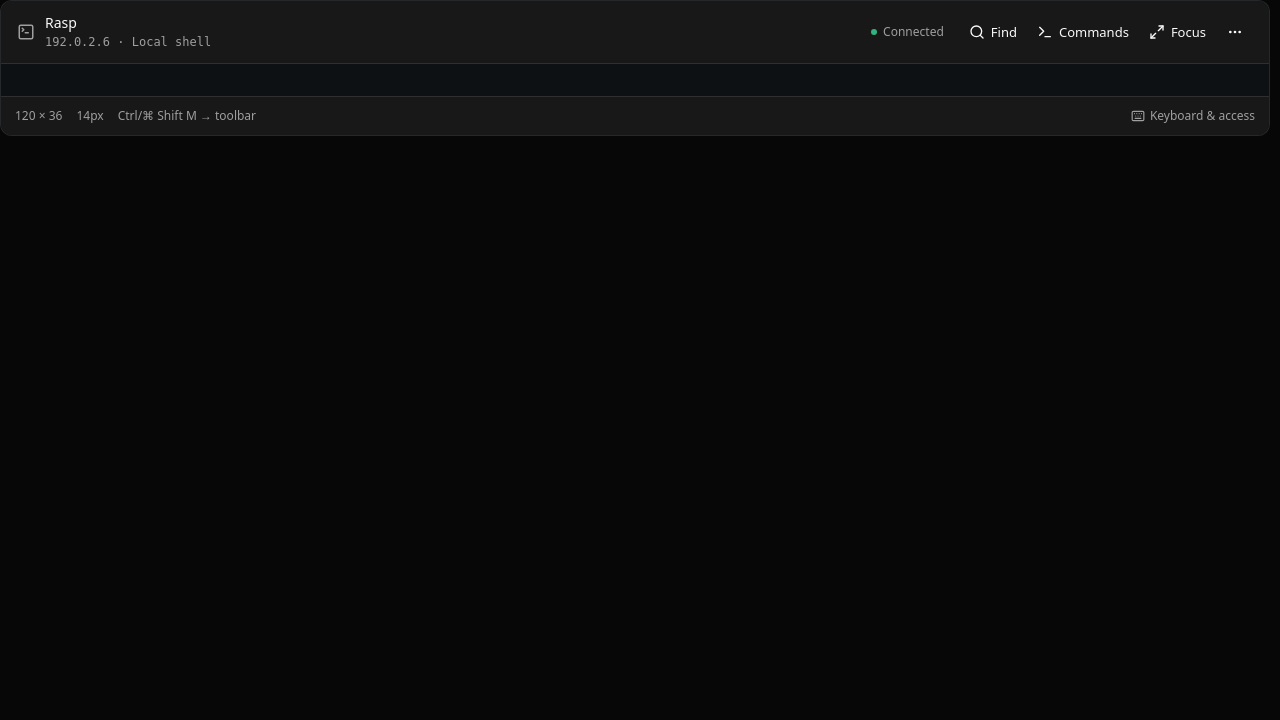
terminal interaction safeguards › keeps the shell open until the user confirms End session
Click the button named "More terminal options".
click(1235, 32)  # box left=1217, top=14, right=1253, bottom=50
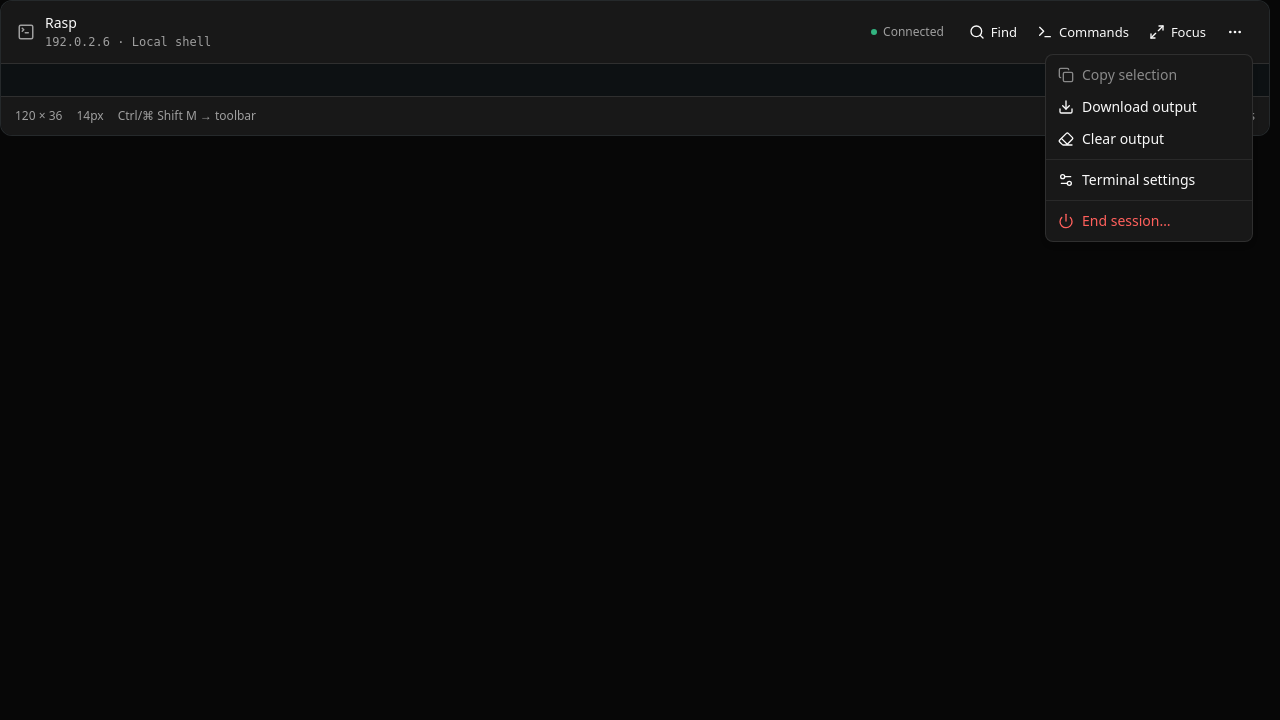
Click the menu item "End session…".
click(1114, 220)  # box left=1058, top=211, right=1170, bottom=230
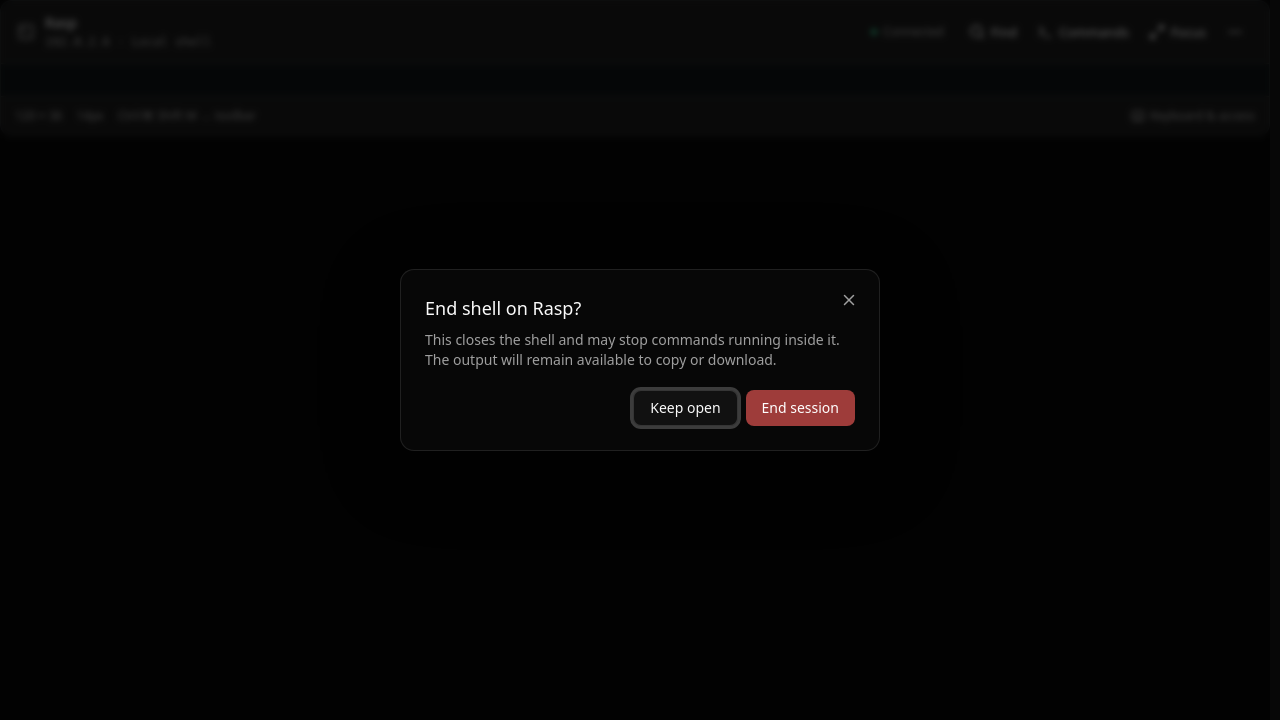
Click the button "Keep open".
click(685, 408)  # box left=633, top=390, right=738, bottom=426
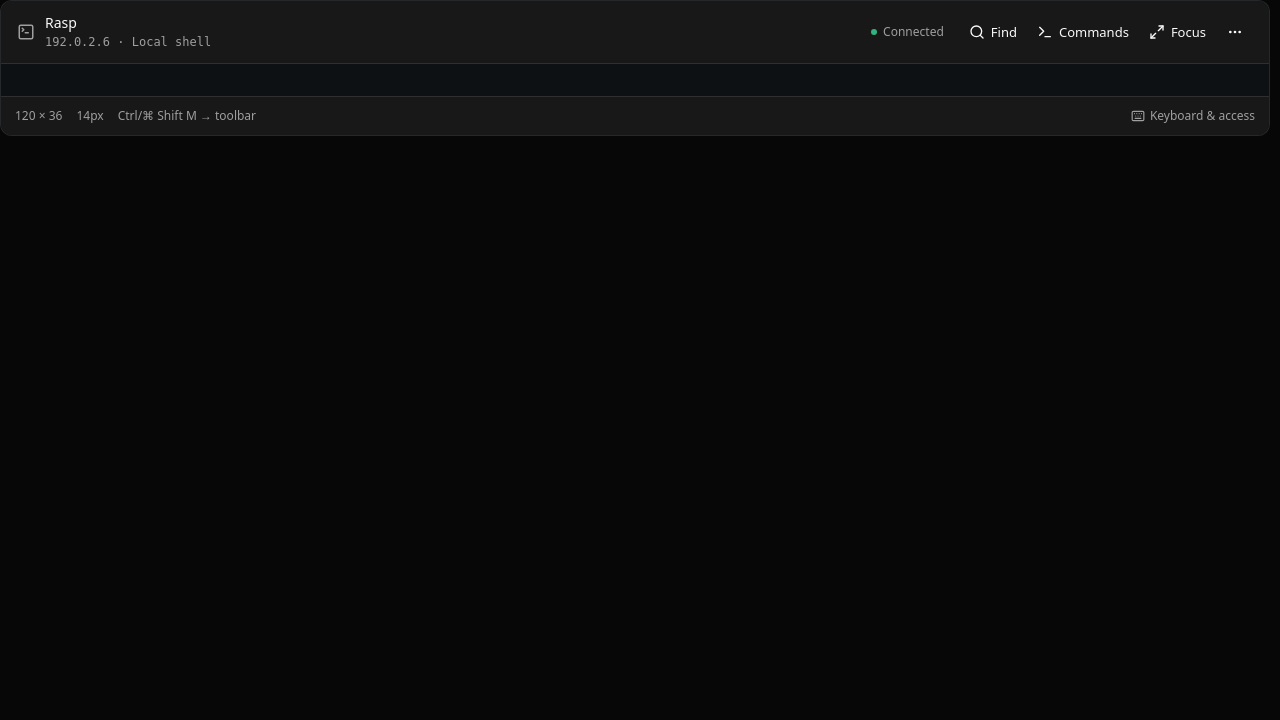
Click the button named "More terminal options".
click(1235, 32)  # box left=1217, top=14, right=1253, bottom=50
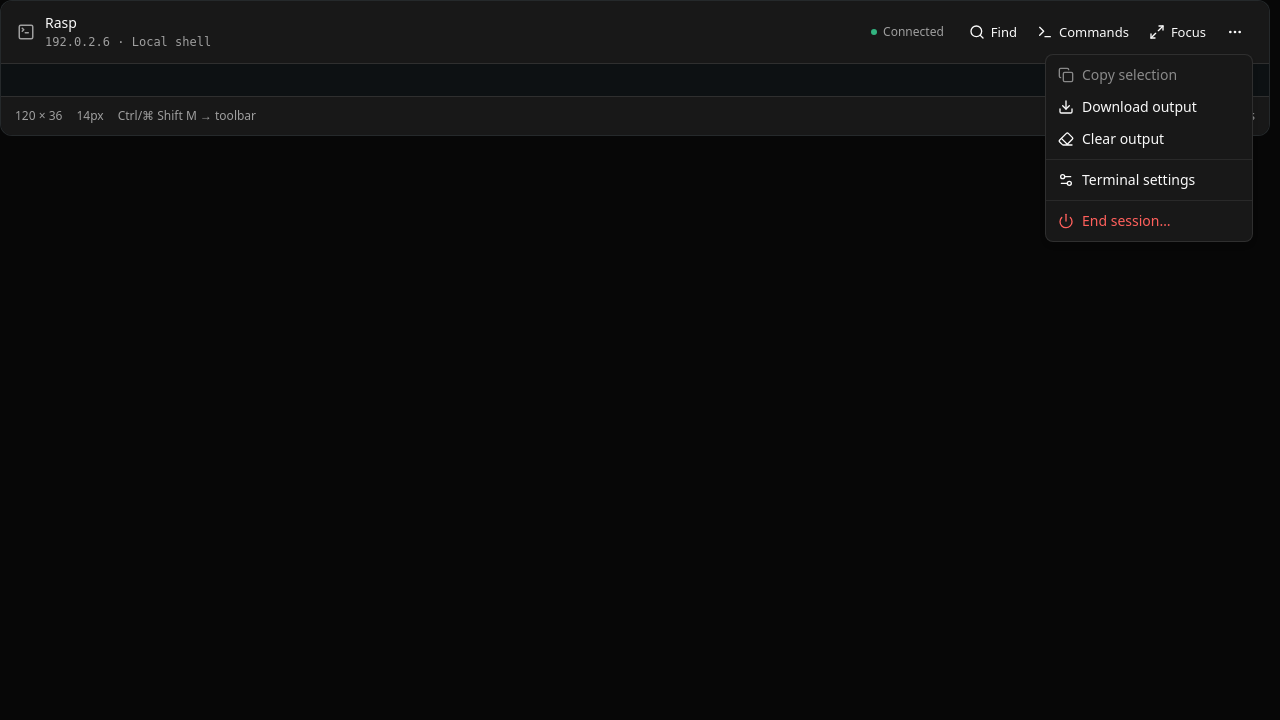
Click the menu item "End session…".
click(1114, 220)  # box left=1058, top=211, right=1170, bottom=230
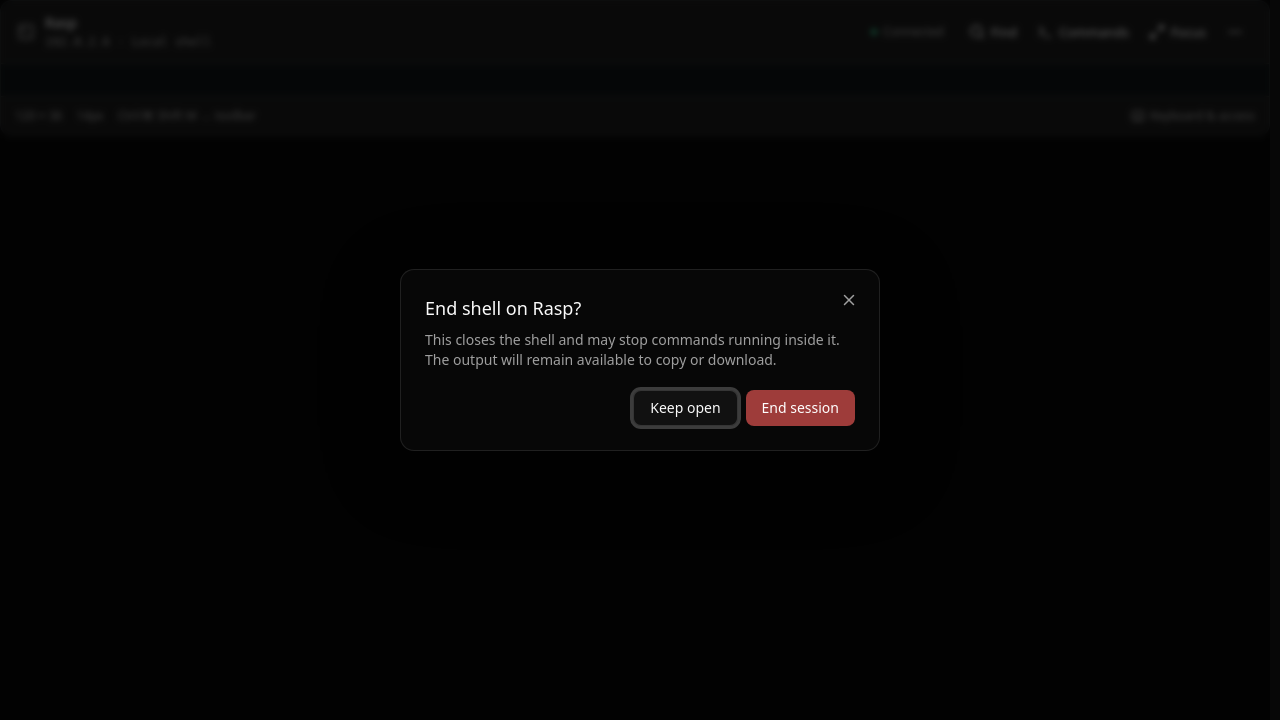
Click the button "End session".
click(800, 408)  # box left=746, top=390, right=855, bottom=426
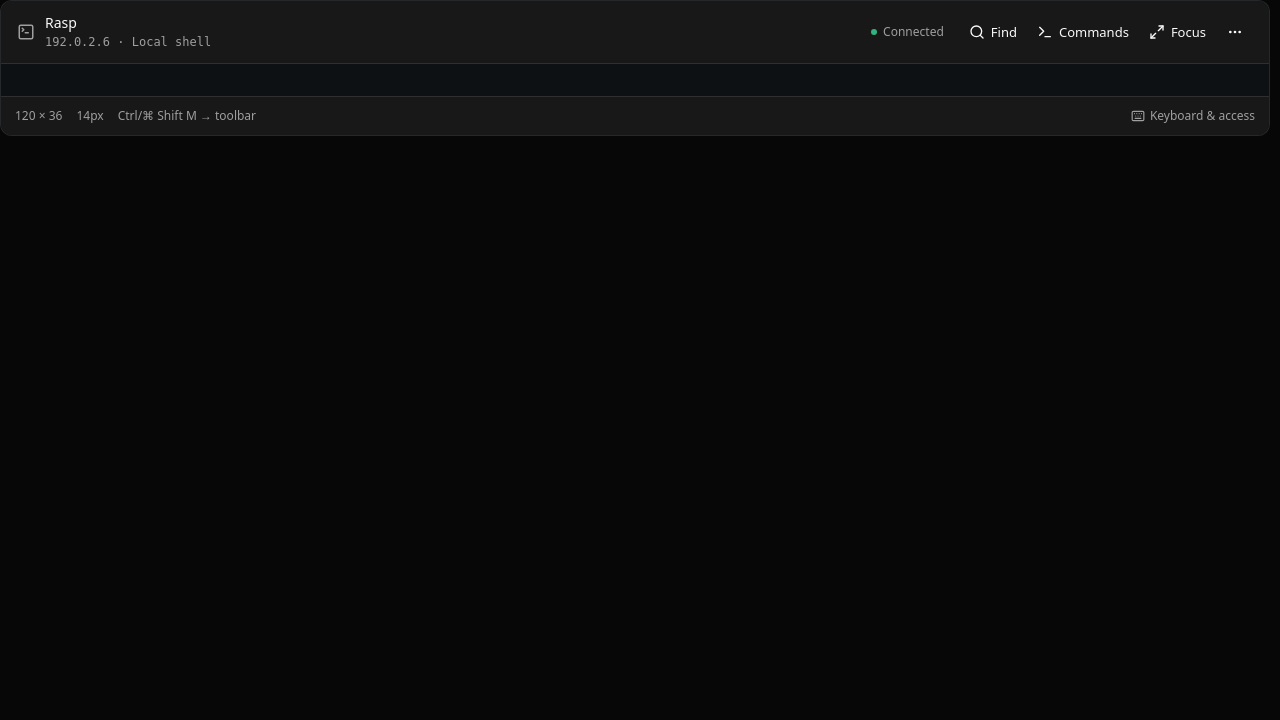
Now the dialog is gone
